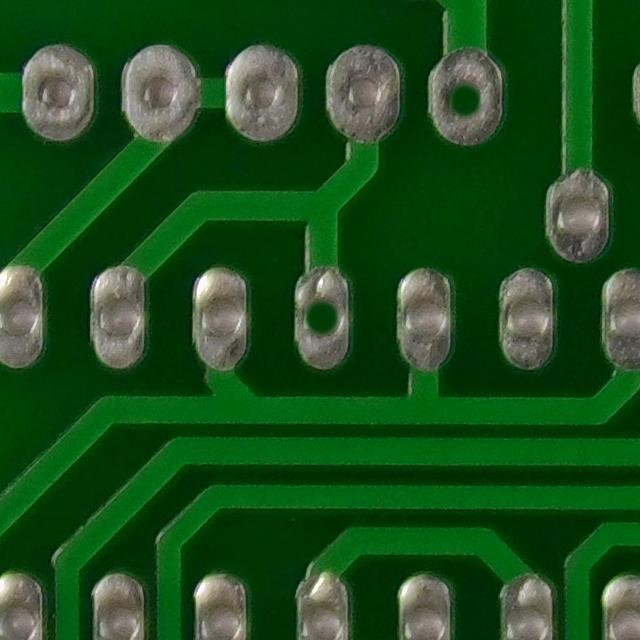missing_hole: (427, 57, 506, 139), (285, 276, 360, 360)
